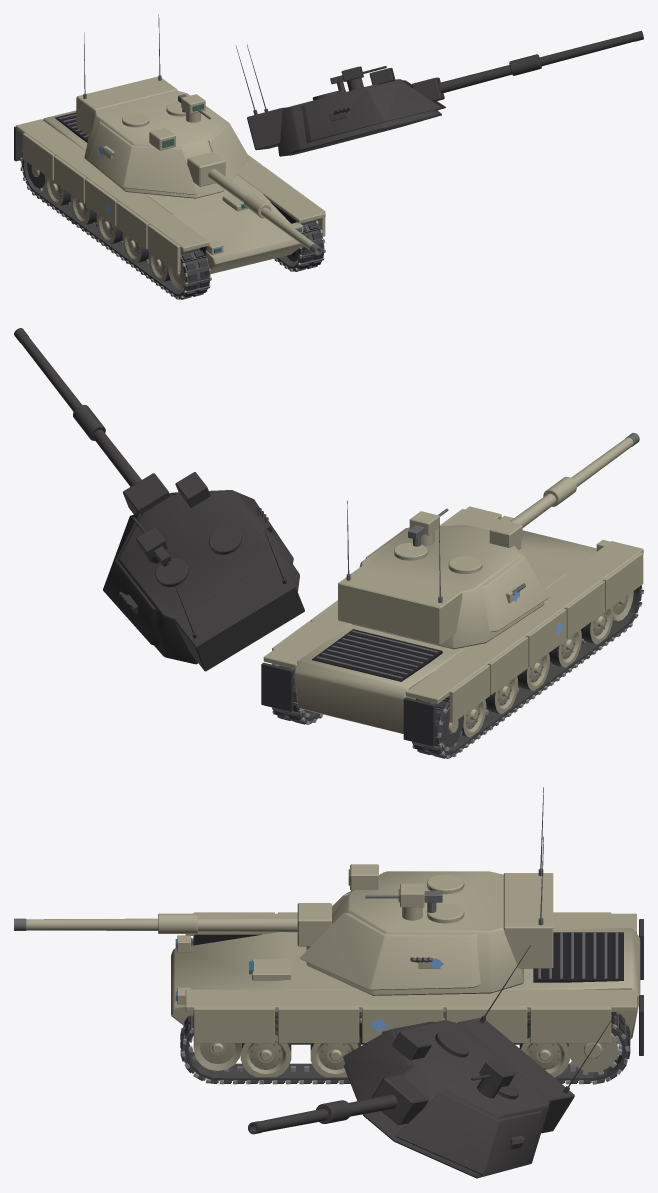
The model's file is tank__type_10.glb.
The picture shows the model from 3 angles, top to bottom: view 1: azimuth 30°, elevation 25°; view 2: azimuth 150°, elevation 25°; view 3: azimuth 270°, elevation 25°; orthographic projection. The views are drawn at different scales.
Visible parts, largest first — view 1: Hull_Mesh, Wreck, Turret_Mesh, Track_L_Mesh, Gun_Mesh, Track_R_Mesh, CITV_Mesh, Wheel_L1_Mesh, Gunner_Sight_Mesh, Wheel_L2_Mesh, Wheel_L3_Mesh, Wheel_L0_Mesh (+1 smaller); view 2: Hull_Mesh, Wreck, Turret_Mesh, Track_L_Mesh, Gun_Mesh, Gunner_Sight_Mesh, Wheel_L4_Mesh, Wheel_L2_Mesh, Wheel_L3_Mesh, Wheel_L1_Mesh, Track_R_Mesh, CITV_Mesh; view 3: Hull_Mesh, Wreck, Turret_Mesh, Gun_Mesh, Track_R_Mesh, Wheel_R4_Mesh, Sprocket_R_Mesh, Wheel_R3_Mesh, Wheel_R0_Mesh, Idler_R_Mesh, CITV_Mesh, Gunner_Sight_Mesh (+2 smaller).
Boxes of the visible parts, bbox=[...] form: Hull_Mesh: bbox=[14, 110, 325, 274]; Wreck: bbox=[20, 30, 643, 299]; Turret_Mesh: bbox=[76, 76, 248, 198]; Track_L_Mesh: bbox=[20, 150, 211, 299]; Gun_Mesh: bbox=[187, 152, 322, 255]; Track_R_Mesh: bbox=[274, 220, 325, 271]; CITV_Mesh: bbox=[181, 94, 205, 122]; Wheel_L1_Mesh: bbox=[70, 194, 97, 225]; Gunner_Sight_Mesh: bbox=[149, 127, 175, 150]; Wheel_L2_Mesh: bbox=[96, 213, 123, 244]; Wheel_L3_Mesh: bbox=[122, 232, 148, 263]; Wheel_L0_Mesh: bbox=[45, 175, 71, 206]; Hull_Mesh: bbox=[261, 506, 643, 746]; Wreck: bbox=[14, 328, 643, 757]; Turret_Mesh: bbox=[338, 525, 549, 649]; Track_L_Mesh: bbox=[412, 585, 643, 758]; Gun_Mesh: bbox=[476, 433, 639, 549]; Gunner_Sight_Mesh: bbox=[489, 520, 522, 547]; Wheel_L4_Mesh: bbox=[581, 606, 613, 644]; Wheel_L2_Mesh: bbox=[517, 653, 549, 690]; Wheel_L3_Mesh: bbox=[549, 630, 581, 667]; Wheel_L1_Mesh: bbox=[485, 676, 517, 714]; Track_R_Mesh: bbox=[272, 665, 322, 724]; CITV_Mesh: bbox=[409, 511, 439, 546]; Hull_Mesh: bbox=[171, 912, 643, 1055]; Wreck: bbox=[180, 940, 627, 1178]; Turret_Mesh: bbox=[299, 871, 553, 995]; Gun_Mesh: bbox=[14, 903, 331, 946]; Track_R_Mesh: bbox=[180, 1012, 630, 1084]; Wheel_R4_Mesh: bbox=[240, 1023, 291, 1077]; Sprocket_R_Mesh: bbox=[568, 1030, 622, 1075]; Wheel_R3_Mesh: bbox=[310, 1036, 360, 1077]; Wheel_R0_Mesh: bbox=[519, 1025, 569, 1077]; Idler_R_Mesh: bbox=[193, 1043, 241, 1070]; CITV_Mesh: bbox=[398, 883, 424, 920]; Gunner_Sight_Mesh: bbox=[348, 864, 378, 890].
Size of what is drawn, in the model's own units: 10.99 by 3.64 by 9.11.
